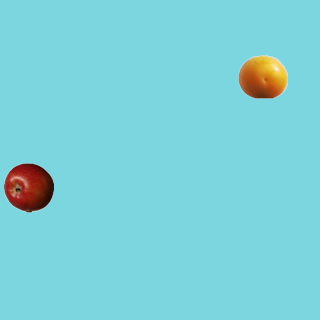Apple Braeburn: (3, 162, 53, 212)
Cherry Wax Yellow: (237, 51, 287, 101)
